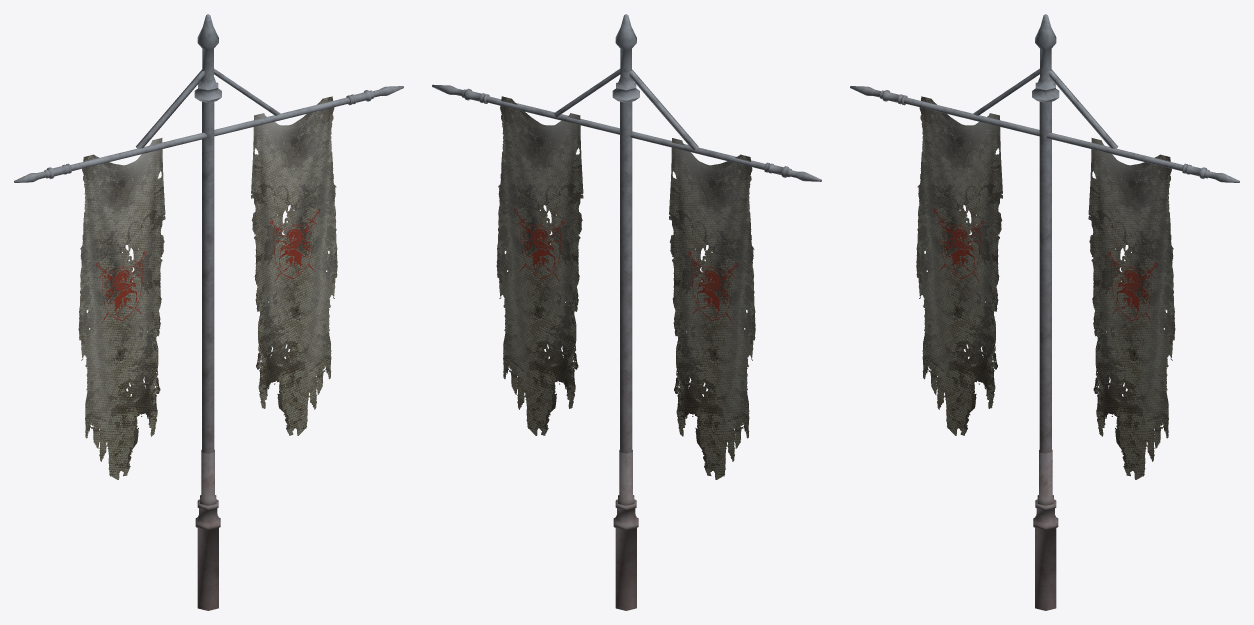
File: Flag_C.fbx
3 renders of one model, left to right at view 1: azimuth 30°, elevation 25°; view 2: azimuth 150°, elevation 25°; view 3: azimuth 330°, elevation 25°, orthographic.
Visible parts, largest first — view 1: Flag_C_low, FlagFrame001_low, FlagFrame003_low, FlagFrame004_low, FlagFrame002_low, FlagFrame006_low, FlagFrame005_low; view 2: Flag_C_low, FlagFrame001_low, FlagFrame003_low, FlagFrame004_low, FlagFrame002_low, FlagFrame006_low, FlagFrame005_low; view 3: Flag_C_low, FlagFrame001_low, FlagFrame003_low, FlagFrame004_low, FlagFrame002_low, FlagFrame006_low, FlagFrame005_low.
Part boxes in pixels (x1,y1,x2,y2): Flag_C_low: [78, 96, 337, 479]; FlagFrame001_low: [202, 101, 214, 453]; FlagFrame003_low: [195, 450, 220, 610]; FlagFrame004_low: [70, 97, 349, 170]; FlagFrame002_low: [194, 14, 221, 102]; FlagFrame006_low: [136, 68, 280, 148]; FlagFrame005_low: [14, 86, 403, 182]; Flag_C_low: [496, 96, 755, 479]; FlagFrame001_low: [620, 101, 632, 453]; FlagFrame003_low: [613, 450, 638, 610]; FlagFrame004_low: [486, 96, 765, 169]; FlagFrame002_low: [612, 14, 639, 102]; FlagFrame006_low: [553, 69, 698, 150]; FlagFrame005_low: [432, 84, 821, 181]; Flag_C_low: [916, 96, 1175, 479]; FlagFrame001_low: [1039, 101, 1051, 453]; FlagFrame003_low: [1033, 450, 1058, 610]; FlagFrame004_low: [904, 97, 1183, 170]; FlagFrame002_low: [1032, 14, 1059, 102]; FlagFrame006_low: [973, 68, 1117, 148]; FlagFrame005_low: [850, 86, 1239, 182].
Size of the model in its own units: 1.9 by 2.77 by 0.1157.
